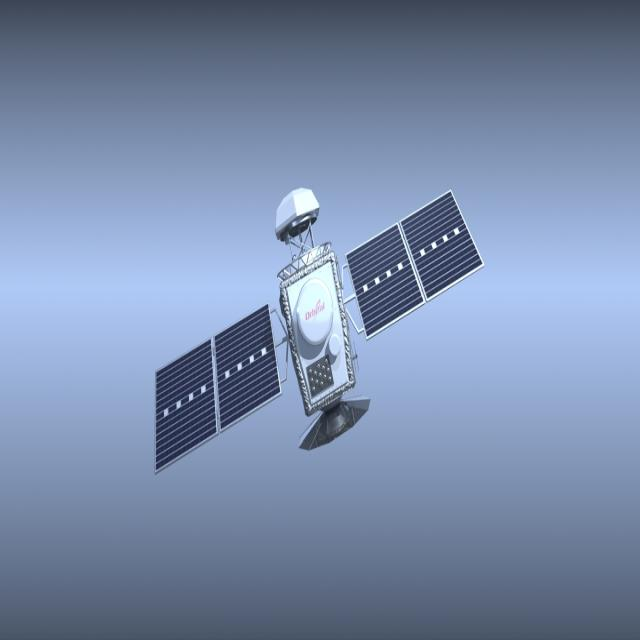satellite: (144, 175, 489, 487)
